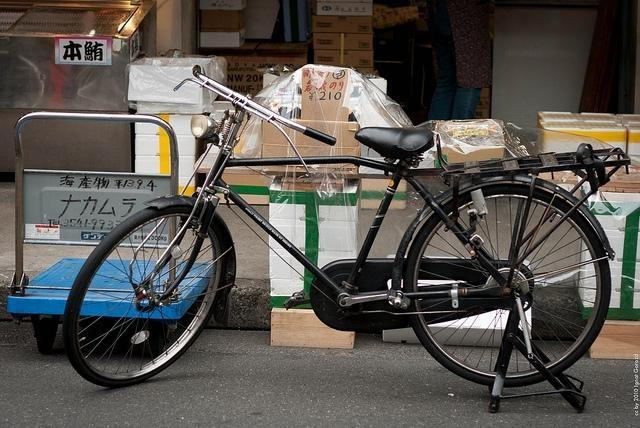bicycle: (62, 60, 638, 418)
